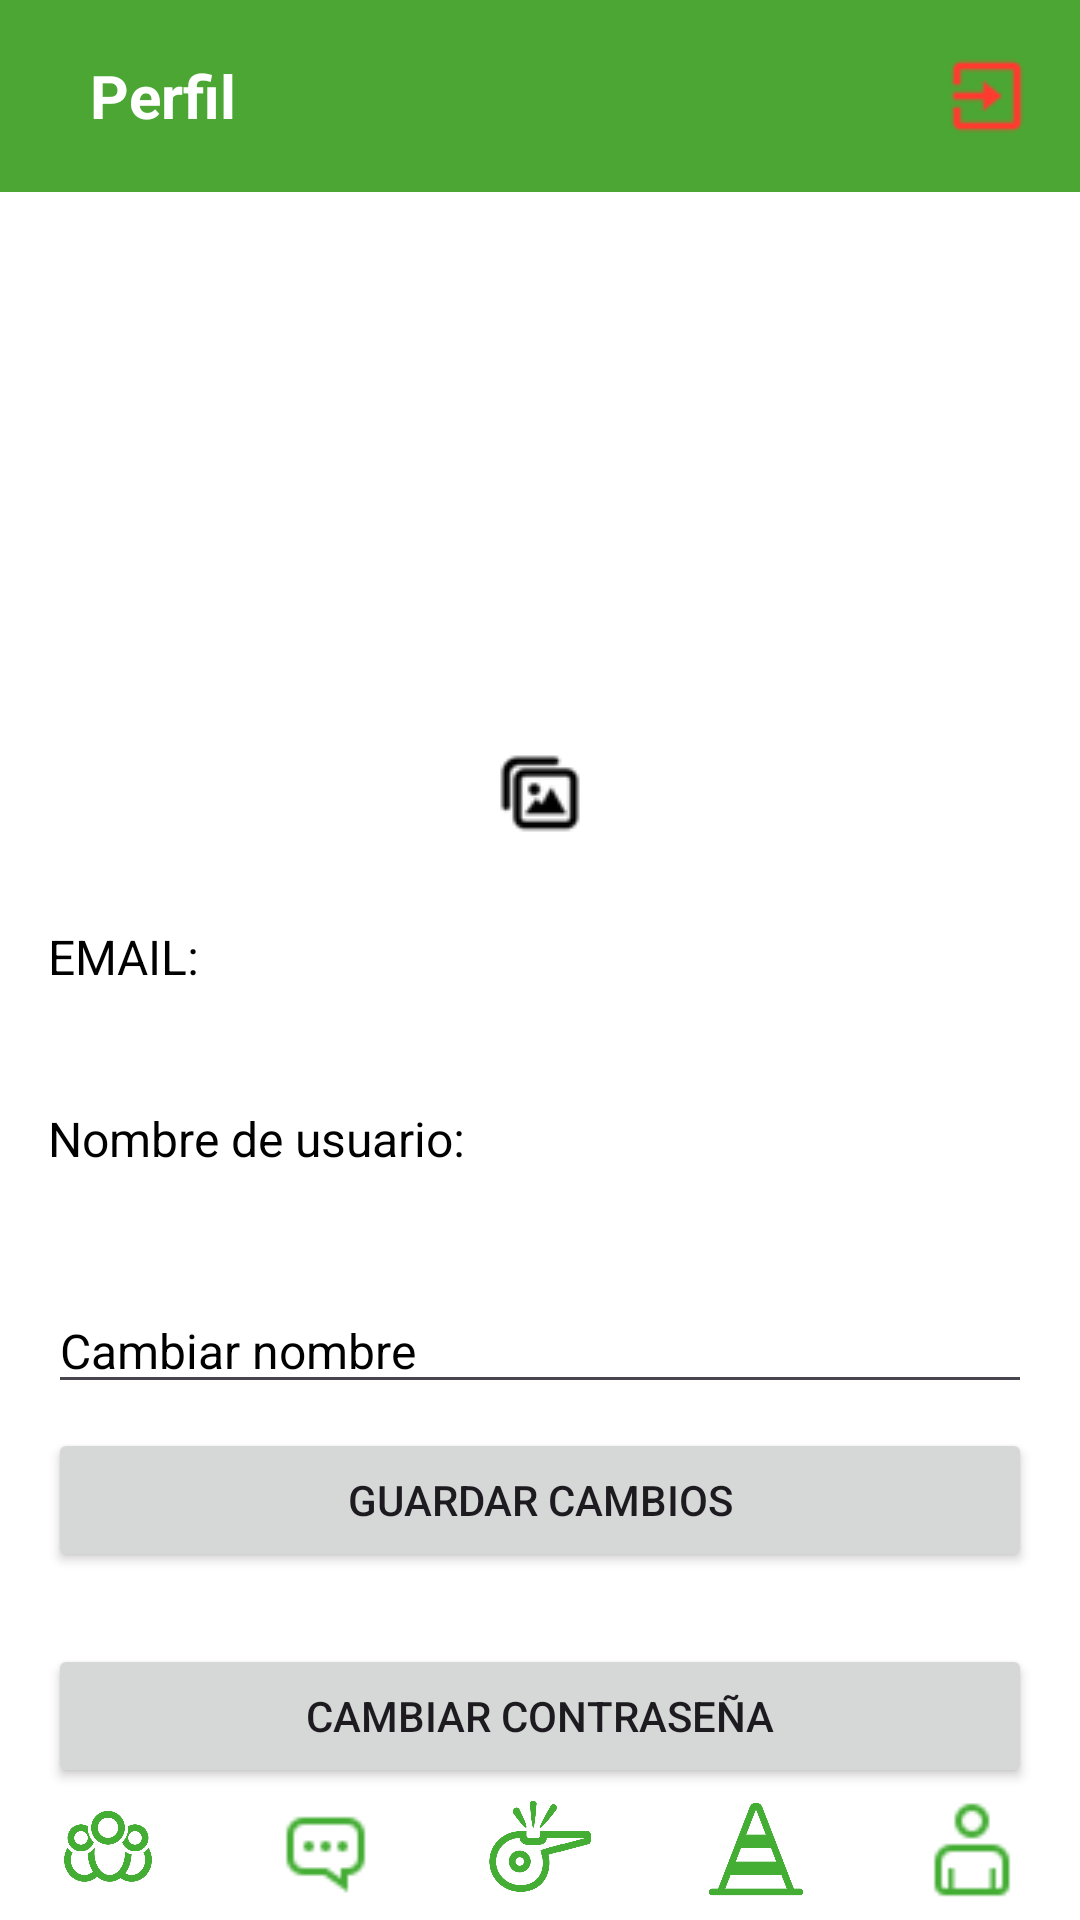

Icons on this 1080x1920 Android screen, each with the point to tap as point (x, y):
Cambiar Foto: point (540, 793)
conversacion: point (326, 1854)
exit: point (987, 96)
partido: point (540, 1846)
perfil: point (972, 1850)
training: point (756, 1849)
